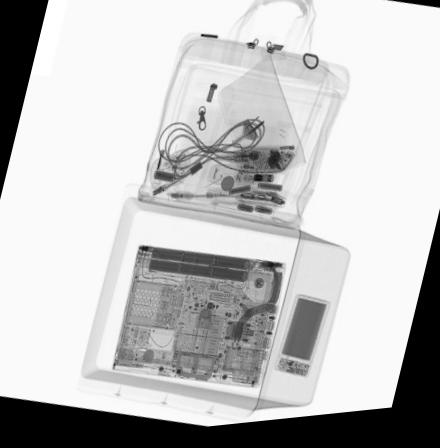Powerbank: (271, 297, 331, 385)
